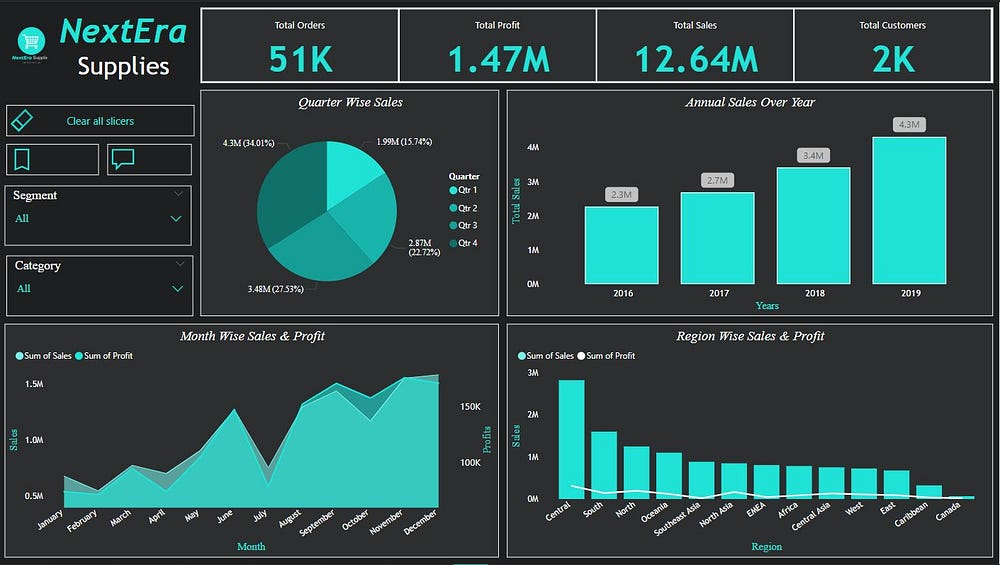

What the dashboard file says about the page in this screenshot:
{"tool":"powerbi","page":{"name":"Page 2","canvas":[1280,720],"ordinal":1},"visuals":[{"type":"cardVisual","fields":{"Data":["Measure Table.Total Orders","Measure Table.Total Profit","Measure Table.Total Sales","Measure Table.Total Customers"]},"box":[257,7,1015.1,96.5],"z":0},{"type":"lineStackedColumnComboChart","title":"Annual Sales Over Year","fields":{"Category":["Orders.Order Date.Variation.Date Hierarchy.Year"],"Y":["Sum(Orders.Sales)"]},"box":[650,112.8,622.1,289.5],"z":1000},{"type":"image","box":[7,22,68,67],"z":2000},{"type":"textbox","box":[61,7,196,97],"z":3000},{"type":"areaChart","title":"Month Wise Sales & Profit","fields":{"Category":["Orders.Order Date.Variation.Date Hierarchy.Month"],"Y":["Sum(Orders.Sales)"],"Y2":["Sum(Orders.Profit)"]},"box":[7,411.6,632.6,298.8],"z":4000},{"type":"lineStackedColumnComboChart","title":"Region Wise Sales & Profit","fields":{"Category":["Orders.Region"],"Y2":["Sum(Orders.Profit)"],"Y":["Sum(Orders.Sales)"]},"box":[650,411.6,622.1,298.8],"z":5000},{"type":"pieChart","title":"Quarter Wise Sales","fields":{"Category":["Orders.Order Date.Variation.Date Hierarchy.Quarter"],"Y":["Sum(Orders.Sales)"]},"box":[257,112.8,382.6,289.5],"z":6000},{"type":"slicer","fields":{"Values":["Orders.Segment"]},"box":[7.2,235.2,239.5,76.5],"z":7000},{"type":"slicer","fields":{"Values":["Orders.Category"]},"box":[8.7,324.6,239.5,77.9],"z":8000},{"type":"actionButton","box":[8.7,131.3,240.9,40.4],"z":9000},{"type":"actionButton","box":[138.5,181.8,108.2,40.4],"z":10000},{"type":"actionButton","box":[8.7,181.8,118.3,40.4],"z":11000}]}

Visuals, with their boxes in screenshot pixels (x1, y1, x2, y2), scaled from the page's 1280x720 canvas onto the 1000x565 screenshot:
cardVisual - Measure Table.Total Orders x Measure Table.Total Profit: bbox(201, 5, 994, 81)
"Annual Sales Over Year" lineStackedColumnComboChart: bbox(508, 89, 994, 316)
image: bbox(5, 17, 59, 70)
textbox: bbox(48, 5, 201, 82)
"Month Wise Sales & Profit" areaChart: bbox(5, 323, 500, 557)
"Region Wise Sales & Profit" lineStackedColumnComboChart: bbox(508, 323, 994, 557)
"Quarter Wise Sales" pieChart: bbox(201, 89, 500, 316)
slicer - Orders.Segment: bbox(6, 185, 193, 245)
slicer - Orders.Category: bbox(7, 255, 194, 316)
actionButton: bbox(7, 103, 195, 135)
actionButton: bbox(108, 143, 193, 174)
actionButton: bbox(7, 143, 99, 174)
